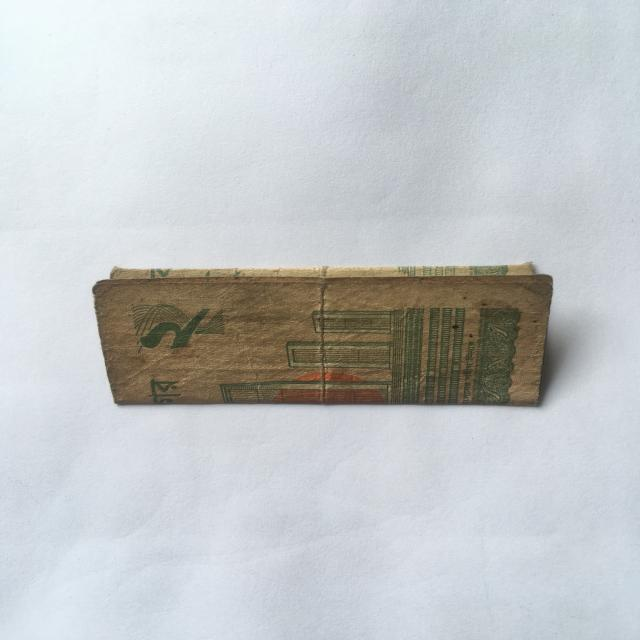Taka: (99, 264, 556, 409)
